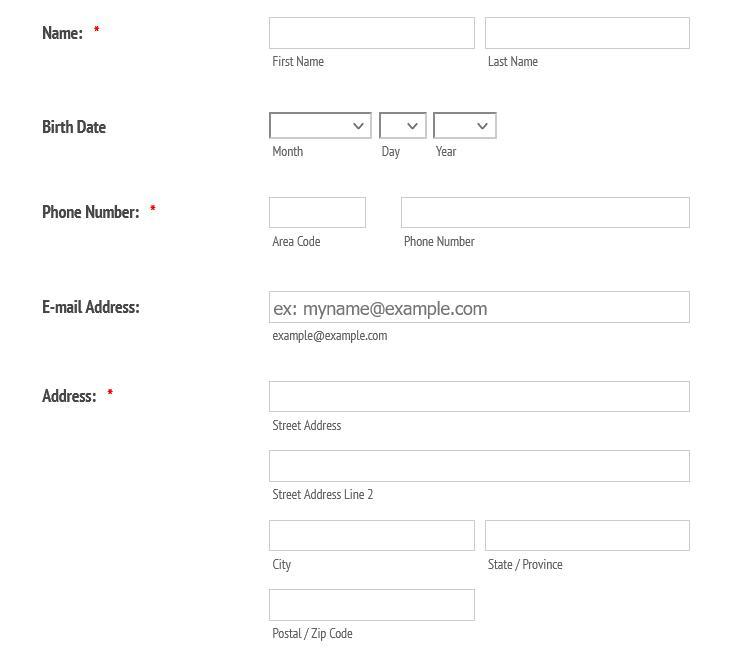dropdown: (271, 113, 372, 140), (434, 114, 498, 139), (379, 112, 428, 141)
input: (269, 294, 691, 326), (270, 453, 690, 484), (268, 382, 691, 411), (404, 198, 694, 228), (269, 16, 476, 52), (269, 589, 475, 622), (487, 19, 694, 49), (269, 522, 476, 552), (486, 522, 690, 550), (271, 197, 366, 227)
label: (36, 192, 164, 230), (34, 290, 162, 328), (37, 375, 126, 411), (39, 114, 124, 146), (262, 415, 348, 440), (40, 18, 108, 47), (264, 629, 361, 648), (265, 490, 379, 505), (487, 557, 572, 576), (400, 232, 478, 251), (265, 52, 331, 72), (273, 232, 328, 253), (485, 54, 543, 73), (266, 557, 303, 578), (272, 144, 311, 162), (375, 144, 408, 160), (434, 144, 462, 161)
